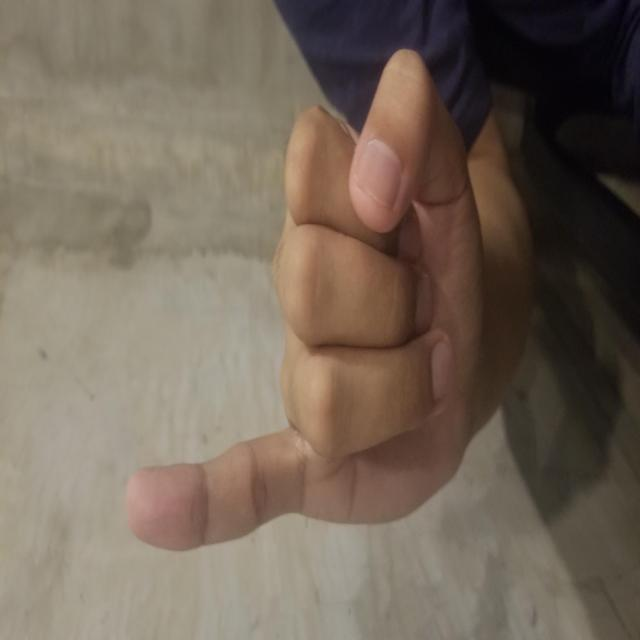I: (87, 124, 597, 486)
